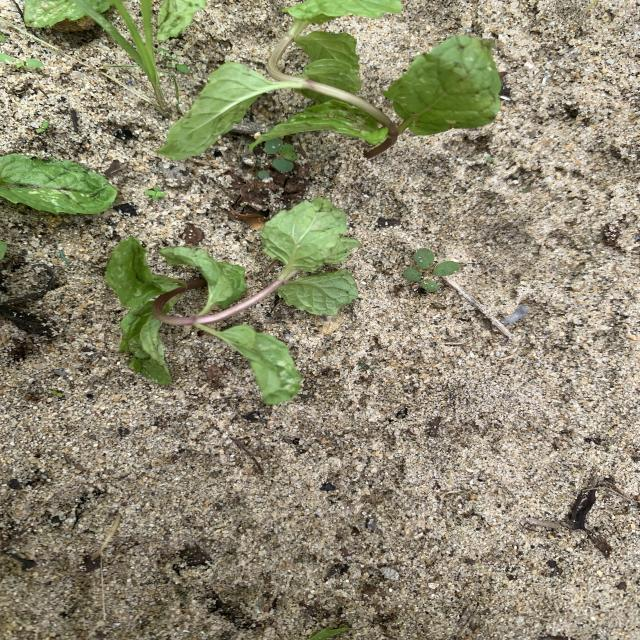crop: (169, 0, 500, 159), (108, 197, 359, 403), (0, 155, 116, 213)
weed: (69, 0, 162, 110), (404, 248, 459, 290), (264, 138, 296, 171), (1, 56, 43, 67), (145, 187, 167, 199), (35, 121, 47, 133), (583, 1, 599, 10)
